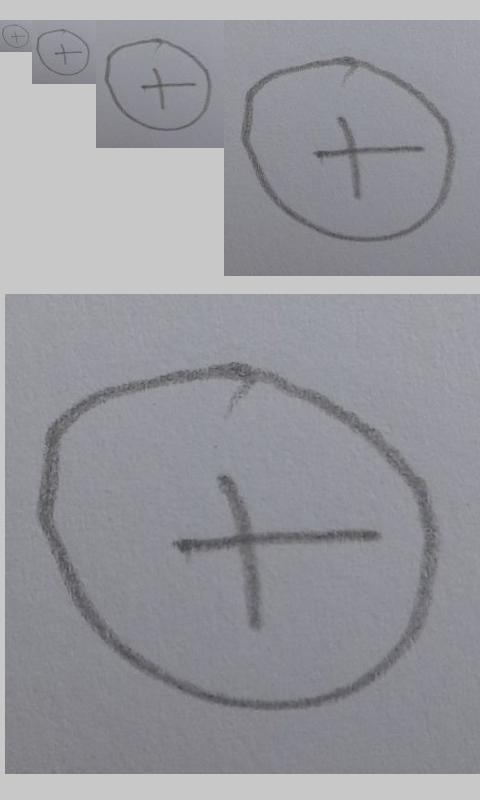button: (39, 363, 441, 711), (241, 56, 456, 243), (104, 38, 213, 132), (36, 29, 90, 76), (2, 24, 30, 48)
